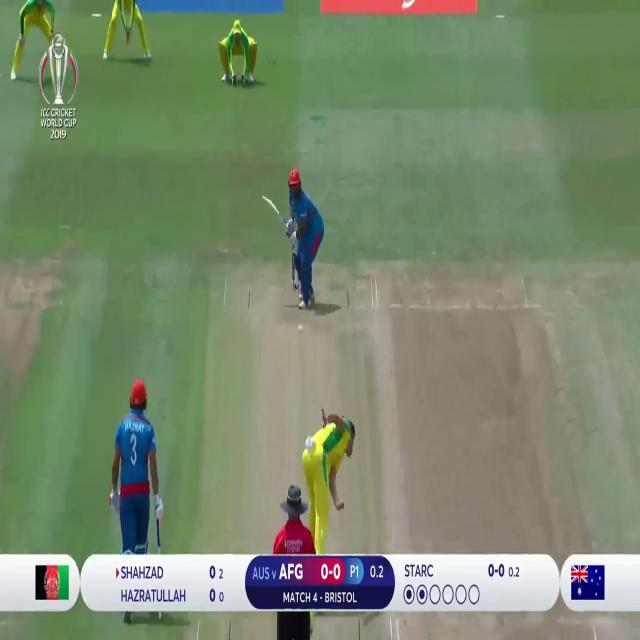ball: (297, 321, 305, 333)
